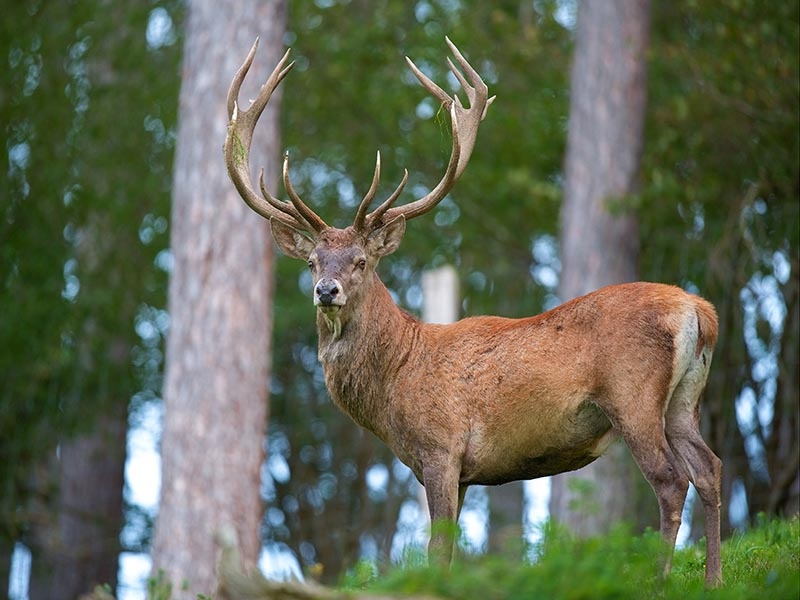cervo: (215, 29, 740, 583)
